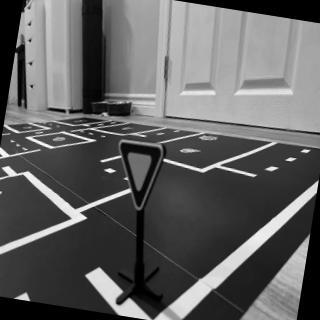sign_yield: (110, 139, 167, 215)
